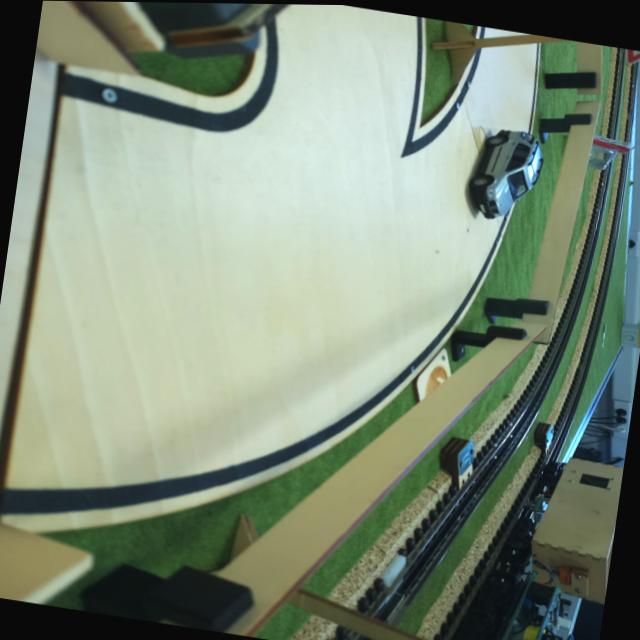obstacle_voiture: (458, 118, 558, 231)
